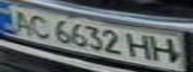2: (100, 27, 127, 56)
3: (84, 24, 106, 53)
6: (48, 17, 75, 46), (66, 21, 87, 48)
A: (3, 7, 39, 35)
C: (24, 12, 54, 39)
H: (148, 34, 187, 64), (124, 30, 157, 61)
